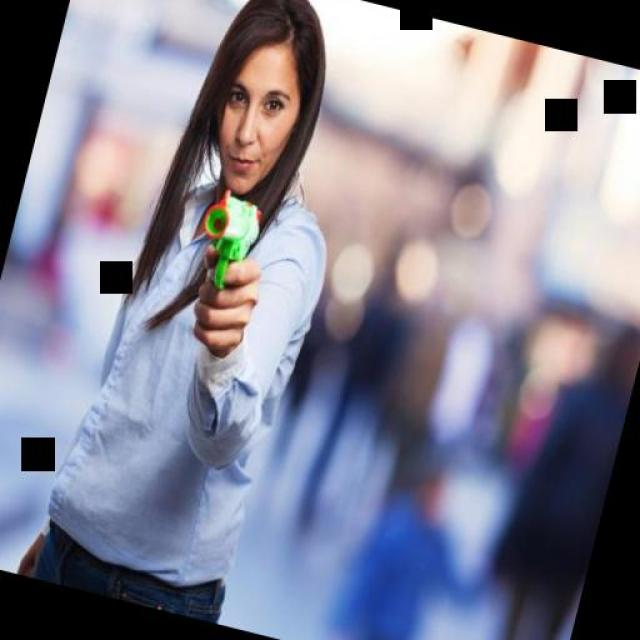gun: (188, 185, 270, 300)
